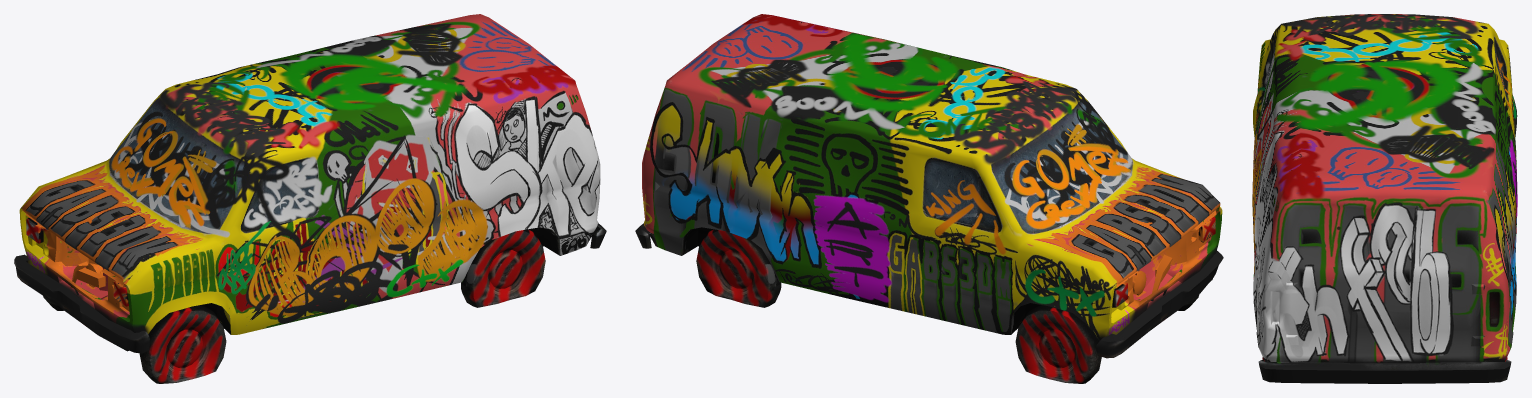
File: graffiti_van_challenge.glb
3 views of the same model, side by side, from view 1: azimuth 30°, elevation 25°; view 2: azimuth 150°, elevation 25°; view 3: azimuth 270°, elevation 25° (orthographic). The views are drawn at different scales.
Visible parts, largest first — view 1: default001_Material #105_0; view 2: default001_Material #105_0; view 3: default001_Material #105_0.
Part boxes in pixels (left/top/right/bottom): default001_Material #105_0: left=14, top=14, right=606, bottom=383; default001_Material #105_0: left=635, top=14, right=1223, bottom=383; default001_Material #105_0: left=1252, top=14, right=1517, bottom=383.
Bounding box in the file's own units: 4.75 × 1.92 × 2.05.
Materials: 1 (1 with a texture image).
